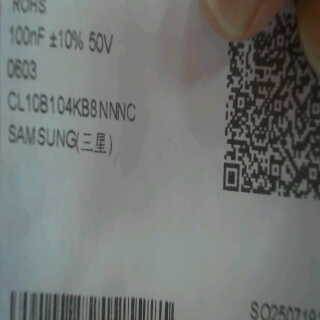100nF: (4, 20, 44, 50)
